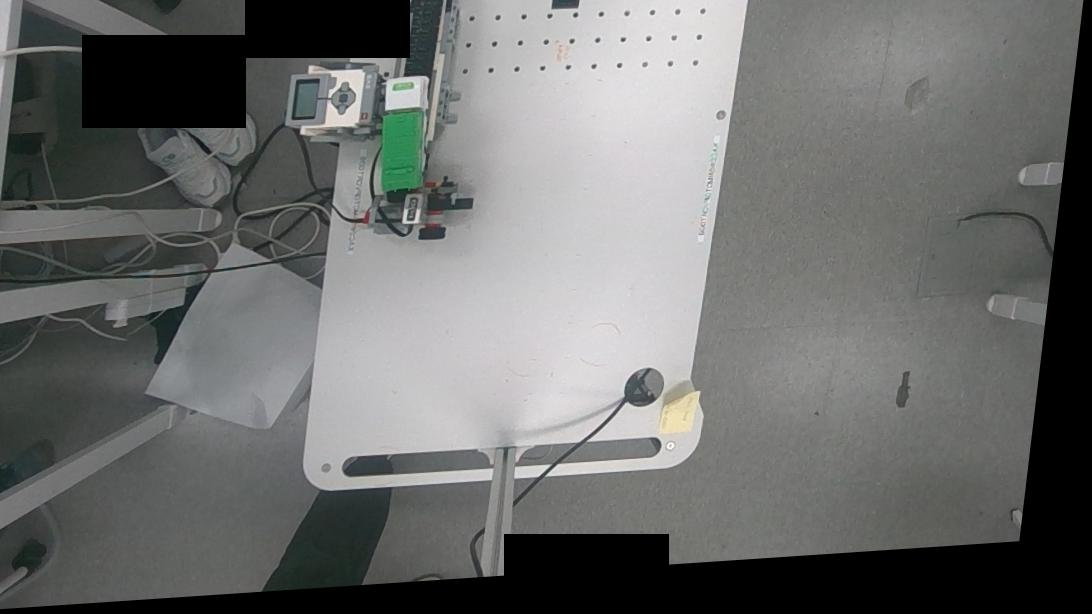truck: (360, 61, 451, 207)
